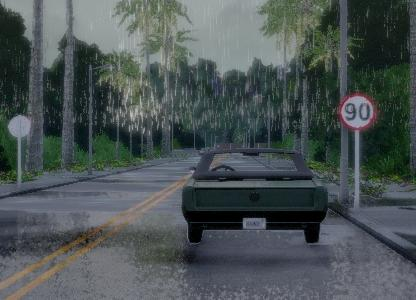Speed_90: (338, 90, 376, 134)
